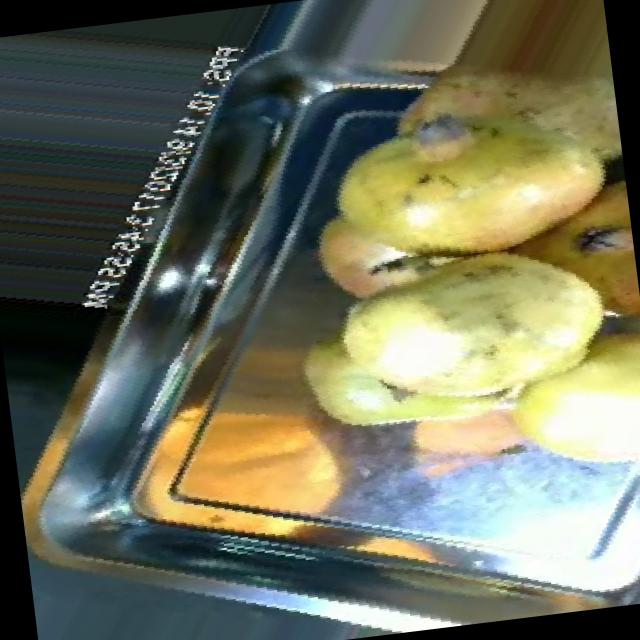fruit: (271, 103, 506, 333)
